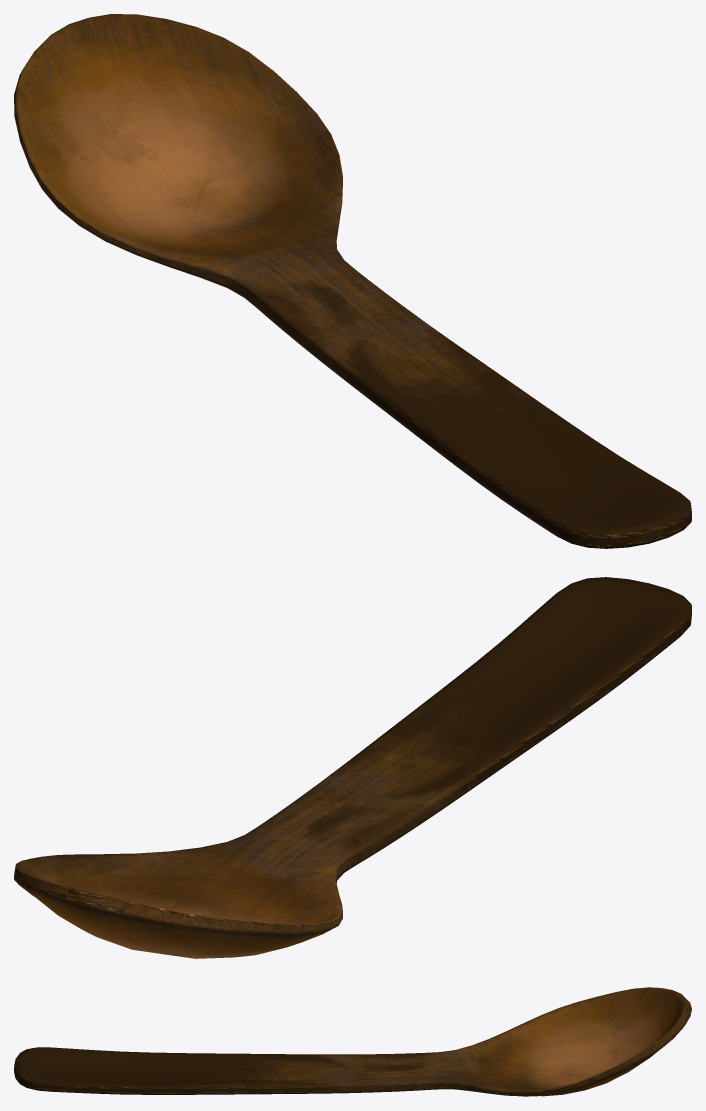
The model's file is HornSpoon3.fbx.
3 views of the same model, one above another, from view 1: azimuth 30°, elevation 25°; view 2: azimuth 150°, elevation 25°; view 3: azimuth 270°, elevation 25° (orthographic). The views are drawn at different scales.
Parts seen in each view (by area): view 1: HornSpoon3; view 2: HornSpoon3; view 3: HornSpoon3.
Part boxes in pixels (x1,y1,x2,y2): HornSpoon3: [14, 14, 691, 548]; HornSpoon3: [14, 577, 691, 958]; HornSpoon3: [14, 987, 691, 1096].
Size of the model in its own units: 2.16 by 0.9722 by 7.65.
